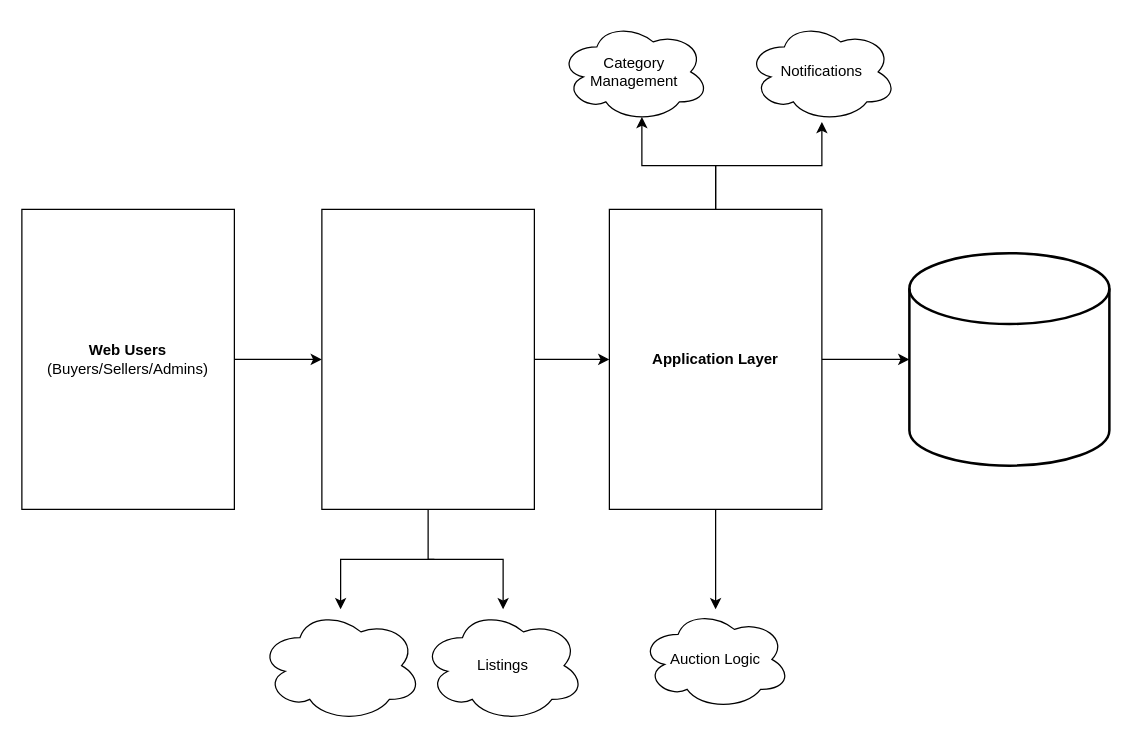
Some shapes in this 1133 by 744 pixel diagram are drawn without their labels. The box of each missing label's shape, as (x1, y1, x2, y2) in pixels:
Database Server: (908, 251, 1110, 466)
Presentation Layer: (321, 208, 534, 509)
User Dashboard: (258, 608, 422, 722)
